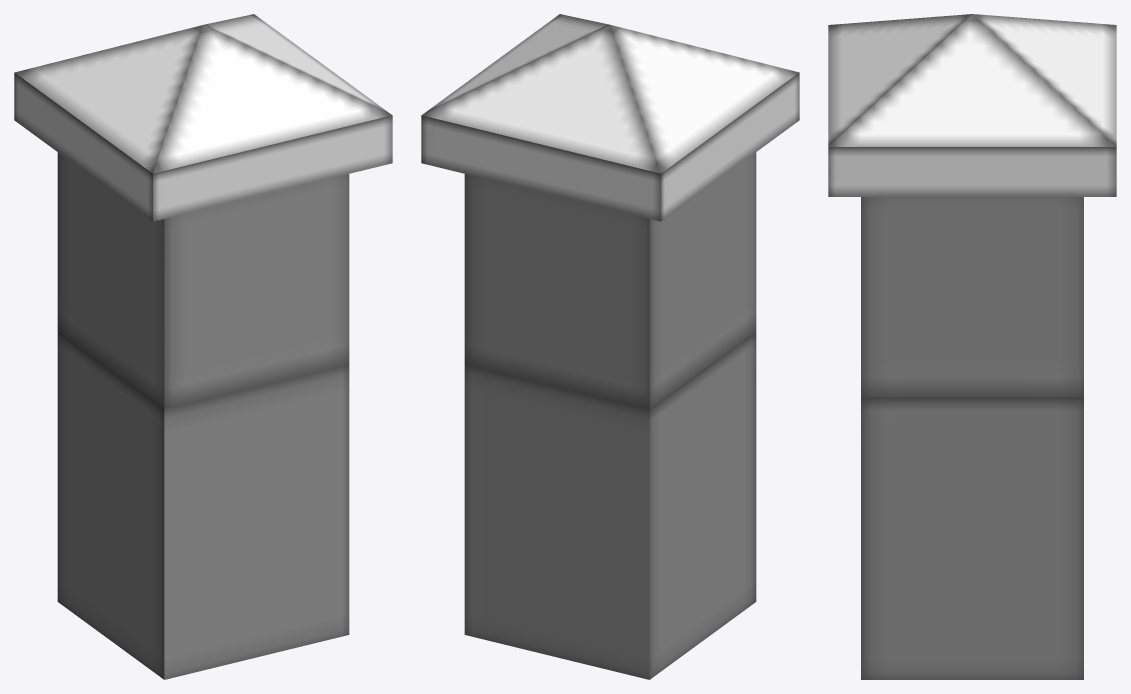
Rendered from Fence-04.fbx.
3 views of the same model, side by side, from view 1: azimuth 30°, elevation 25°; view 2: azimuth 150°, elevation 25°; view 3: azimuth 270°, elevation 25° (orthographic). The views are drawn at different scales.
Parts seen in each view (by area): view 1: Fence_04; view 2: Fence_04; view 3: Fence_04.
Boxes of the visible parts, x1,y1,x2,y2 form: Fence_04: (14,14,392,679); Fence_04: (421,14,799,679); Fence_04: (828,14,1116,679).
Bounding box in the file's own units: 0.324 × 0.7668 × 0.324.
